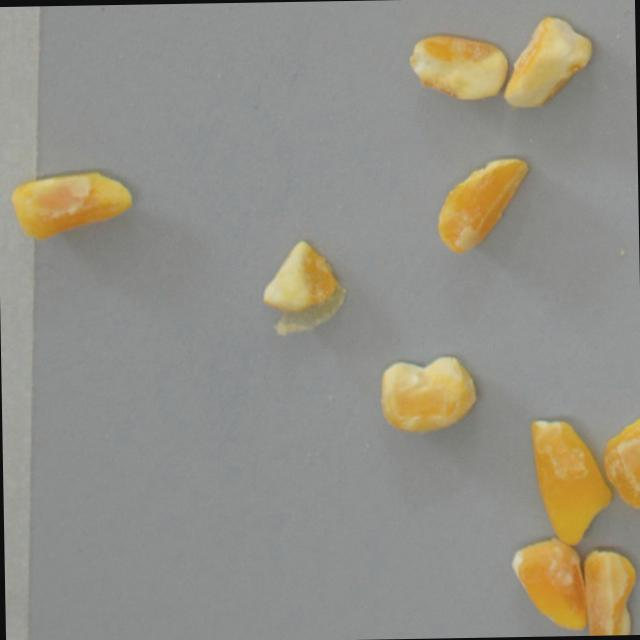pelicula: (524, 418, 613, 547), (8, 170, 138, 242), (501, 15, 598, 111), (433, 157, 530, 253), (261, 237, 349, 337), (378, 355, 475, 434), (510, 538, 587, 633), (408, 32, 508, 102), (582, 546, 639, 635), (601, 415, 640, 510)
